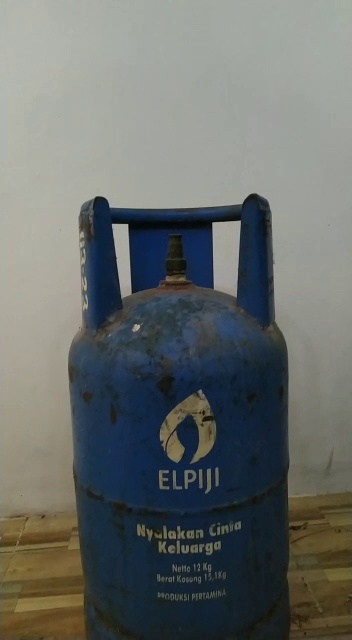blue_gas: (67, 191, 300, 640)
